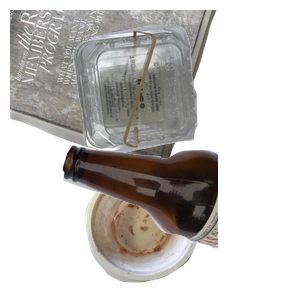glass: (60, 142, 300, 300)
paper: (10, 10, 222, 176)
plastic: (71, 23, 300, 169)
trash: (83, 163, 276, 300)
